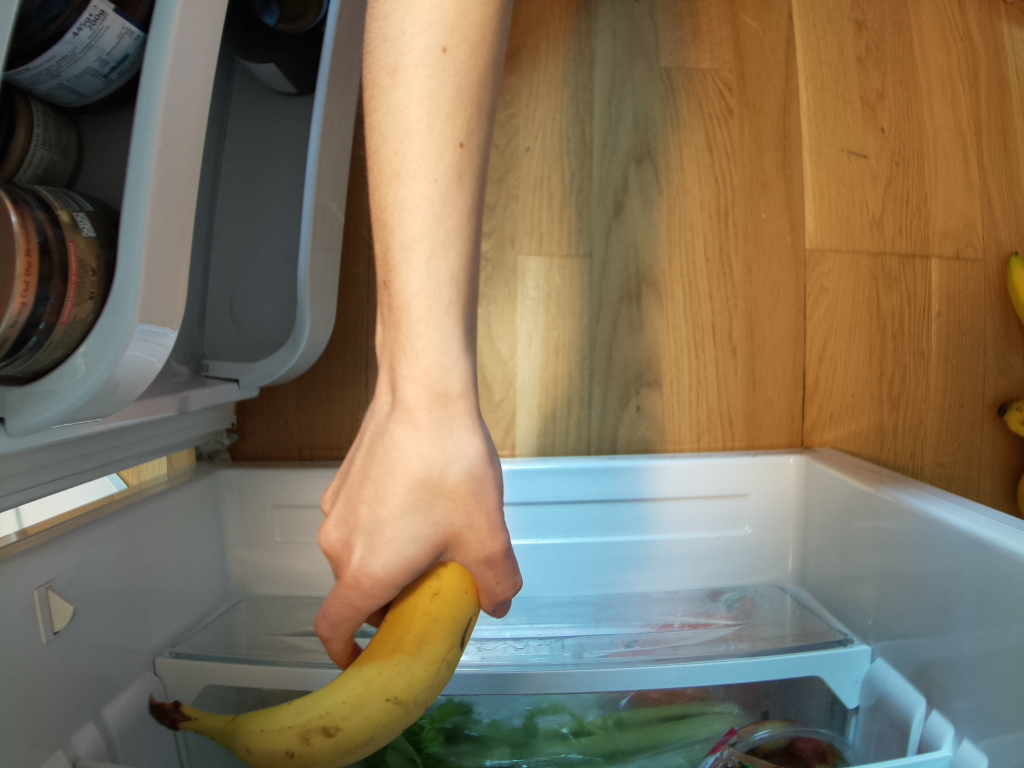banana: (145, 552, 487, 768)
